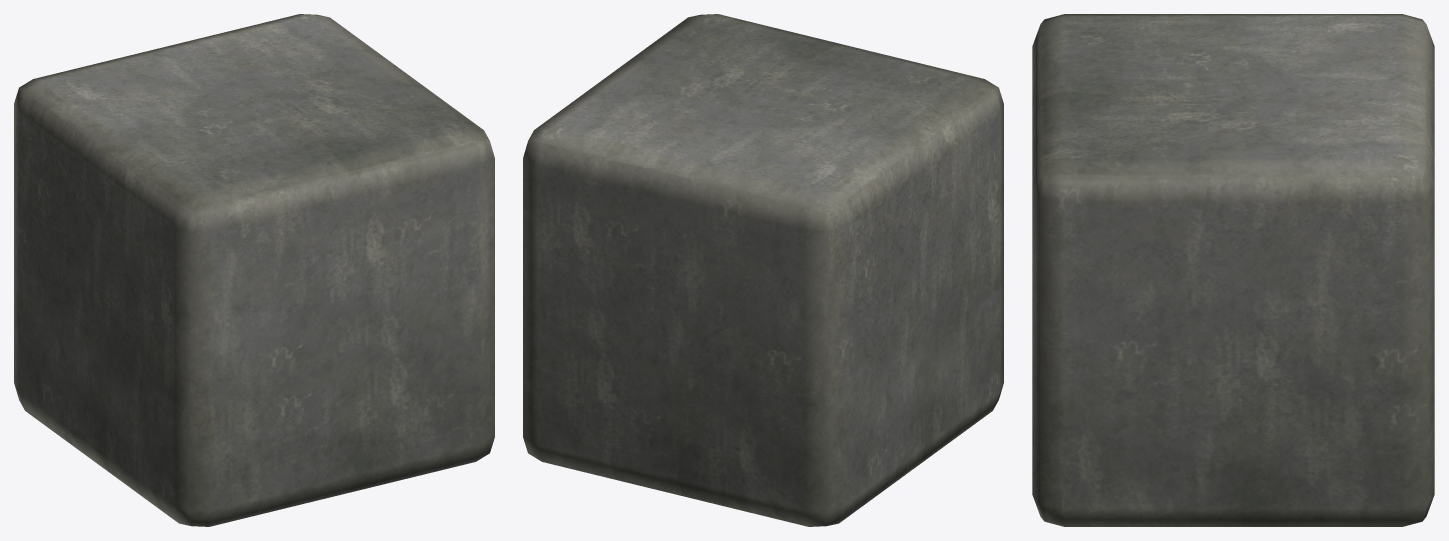
File: Floor.gltf
3 renders of one model, left to right at view 1: azimuth 30°, elevation 25°; view 2: azimuth 150°, elevation 25°; view 3: azimuth 270°, elevation 25°, orthographic. The views are drawn at different scales.
Parts seen in each view (by area): view 1: Floor_low; view 2: Floor_low; view 3: Floor_low.
Part boxes in pixels (bbox=[...]): Floor_low: bbox=[14, 14, 494, 526]; Floor_low: bbox=[523, 14, 1003, 526]; Floor_low: bbox=[1032, 14, 1434, 526].
Size of the model in its own units: 0.5 by 0.5 by 0.5.
Materials: 1 (1 with a texture image).
